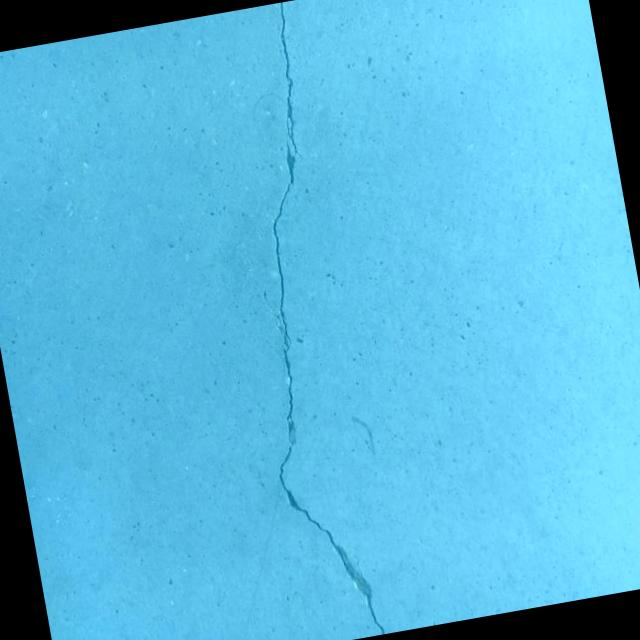crack: (188, 1, 395, 640)
